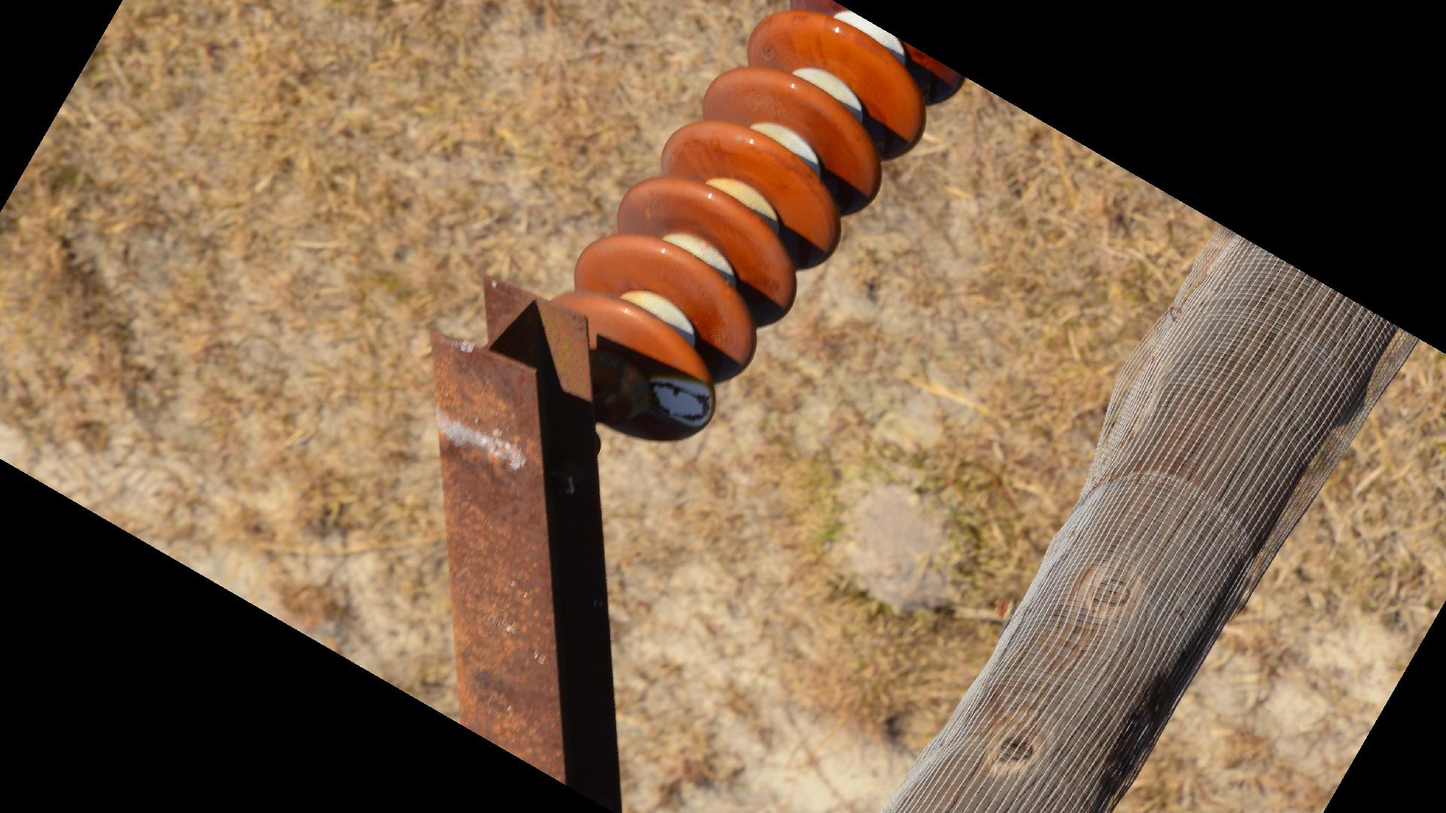insulator: (545, 1, 974, 447)
insulator_flashover: (644, 372, 717, 431)
